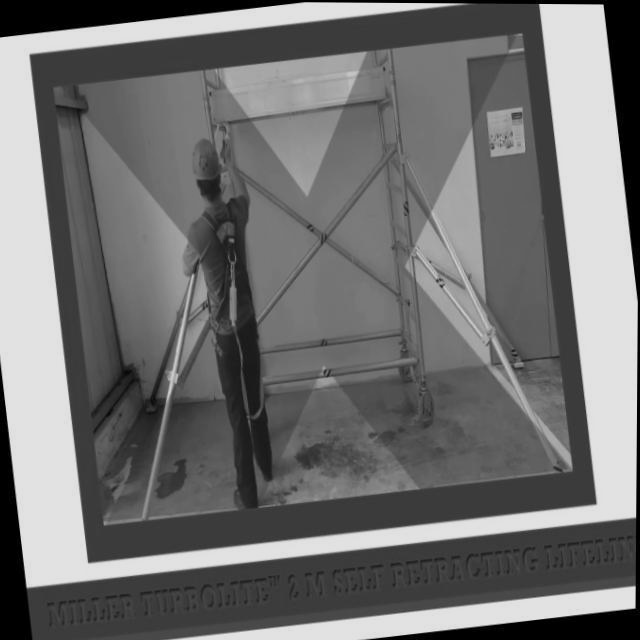safety belt: (198, 210, 267, 379)
